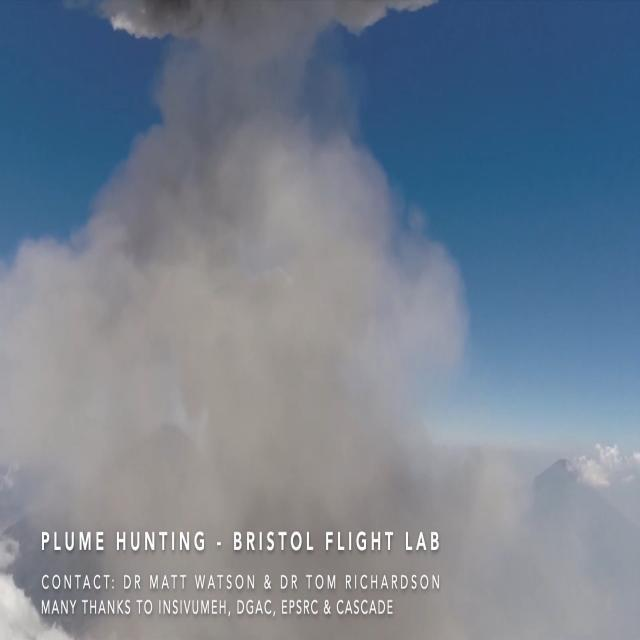Plume: (0, 100, 486, 516), (53, 0, 463, 68)
